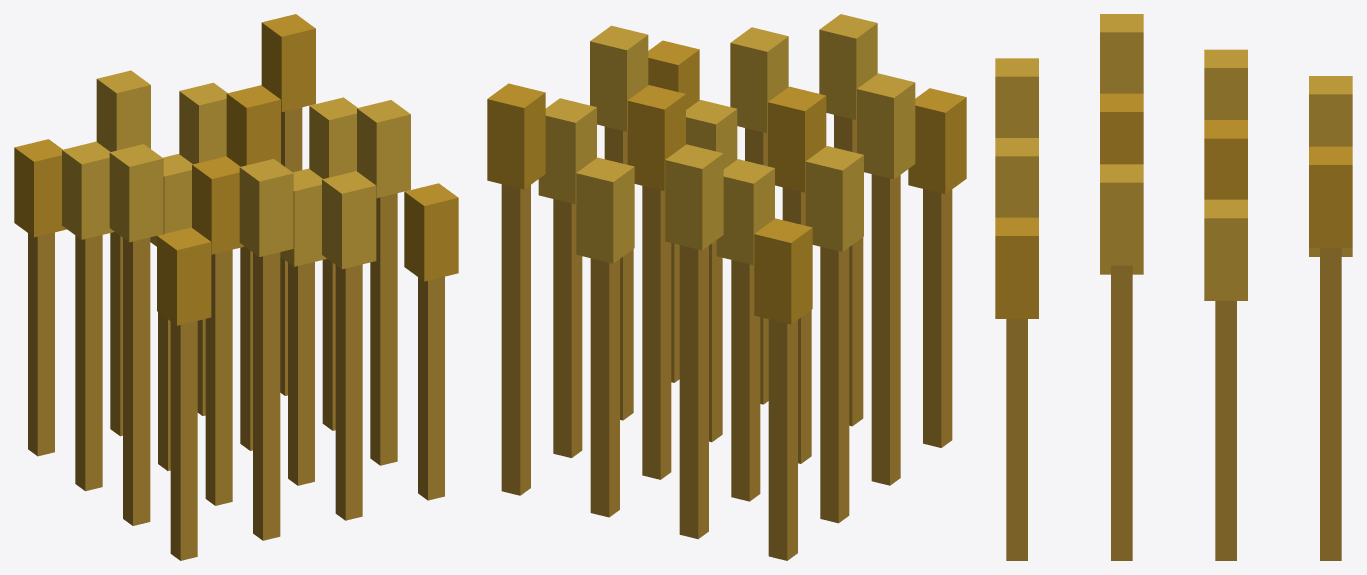
The model's file is nt-wheat-patch.glb.
3 renders of one model, left to right at view 1: azimuth 30°, elevation 25°; view 2: azimuth 150°, elevation 25°; view 3: azimuth 270°, elevation 25°, orthographic. The views are drawn at different scales.
Parts seen in each view (by area): view 1: box-prop; view 2: box-prop; view 3: box-prop.
Part boxes in pixels (box(x1,y1,x2,y2)): box-prop: box(14, 14, 458, 560); box-prop: box(487, 14, 966, 560); box-prop: box(995, 14, 1352, 560).
Size of the model in its own units: 1.64 by 2.03 by 1.64.
